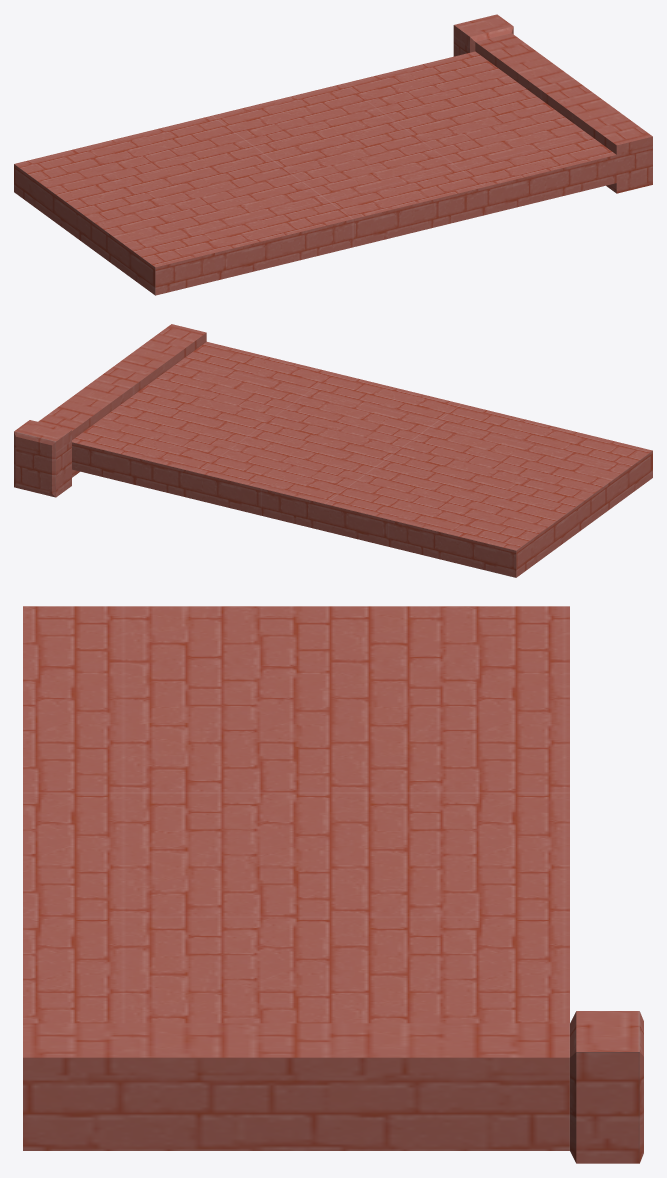
The model's file is wall-bricks.obj.
3 renders of one model, top to bottom at view 1: azimuth 30°, elevation 25°; view 2: azimuth 150°, elevation 25°; view 3: azimuth 270°, elevation 25°, orthographic. The views are drawn at different scales.
Visible parts, largest first — view 1: wall-bricks_Plane.181; view 2: wall-bricks_Plane.181; view 3: wall-bricks_Plane.181.
Part boxes in pixels (x1,y1,x2,y2): wall-bricks_Plane.181: (14, 14, 652, 295); wall-bricks_Plane.181: (14, 324, 652, 577); wall-bricks_Plane.181: (23, 606, 643, 1163).
Bounding box in the file's own units: 2.17 × 0.2394 × 1.2.
